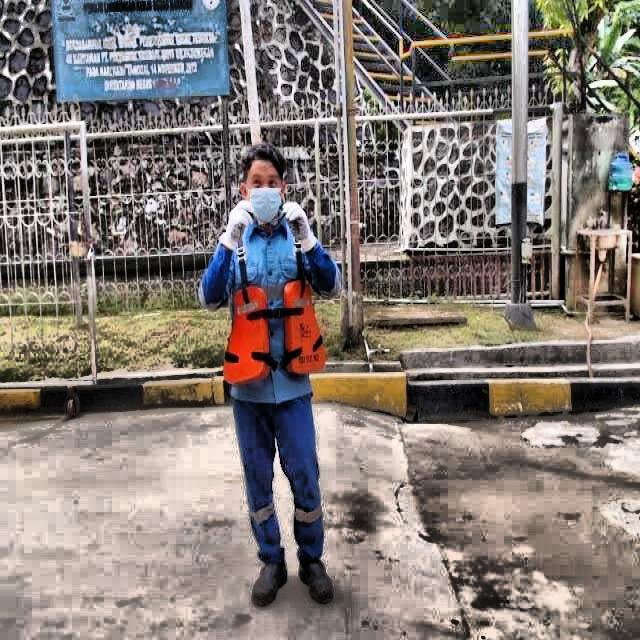safety_jacket: (220, 282, 327, 388)
